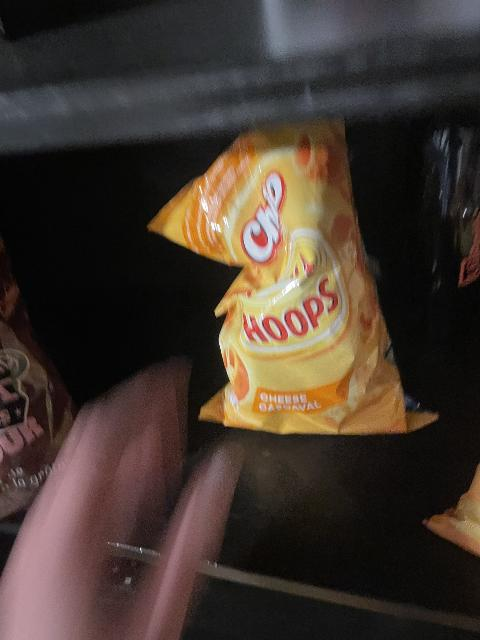Chio Cascaval 125g: (151, 119, 442, 434)
Lays Beef Grilled Ribs 125g: (2, 221, 82, 520)
